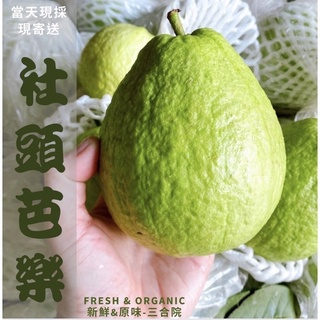guava: (95, 9, 284, 258)
